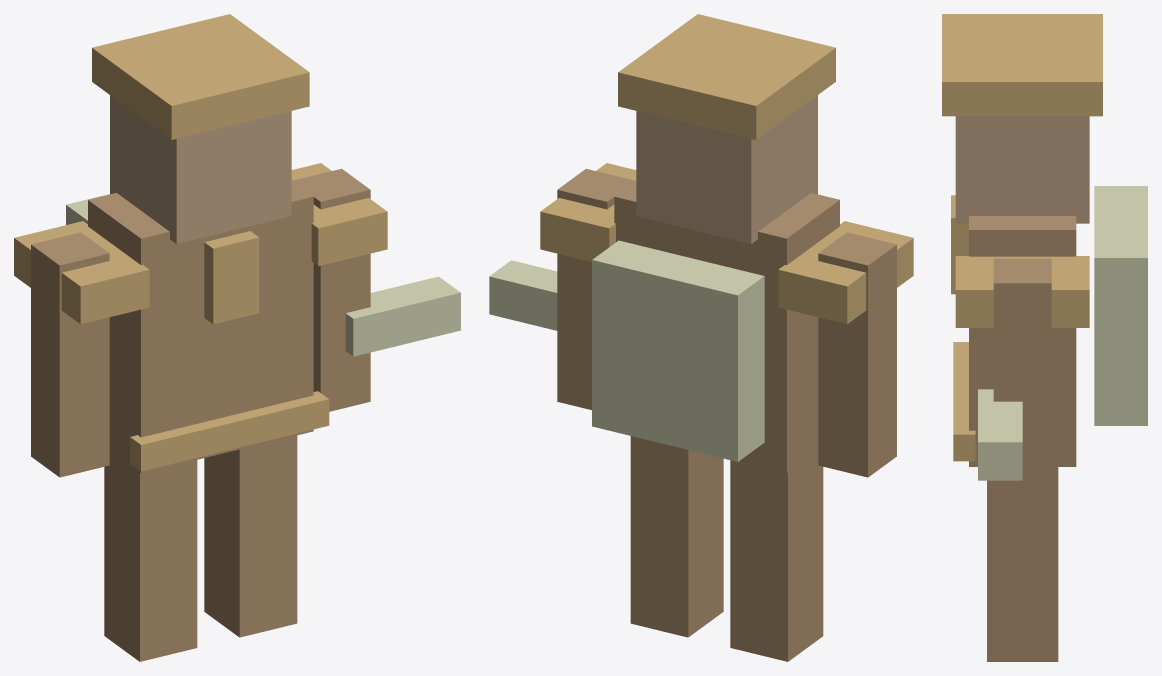
File: 14_auren_rootborne_archivist_at_choir.glb
3 renders of one model, left to right at view 1: azimuth 30°, elevation 25°; view 2: azimuth 150°, elevation 25°; view 3: azimuth 270°, elevation 25°, orthographic.
Visible parts, largest first — view 1: Auren Rootborne, Archivist at Choir; view 2: Auren Rootborne, Archivist at Choir; view 3: Auren Rootborne, Archivist at Choir.
Part boxes in pixels (left/top/right/bottom): Auren Rootborne, Archivist at Choir: left=14, top=14, right=460, bottom=661; Auren Rootborne, Archivist at Choir: left=489, top=14, right=913, bottom=661; Auren Rootborne, Archivist at Choir: left=942, top=14, right=1147, bottom=661.
Bounding box in the file's own units: 1.1 × 1.53 × 0.4955.
